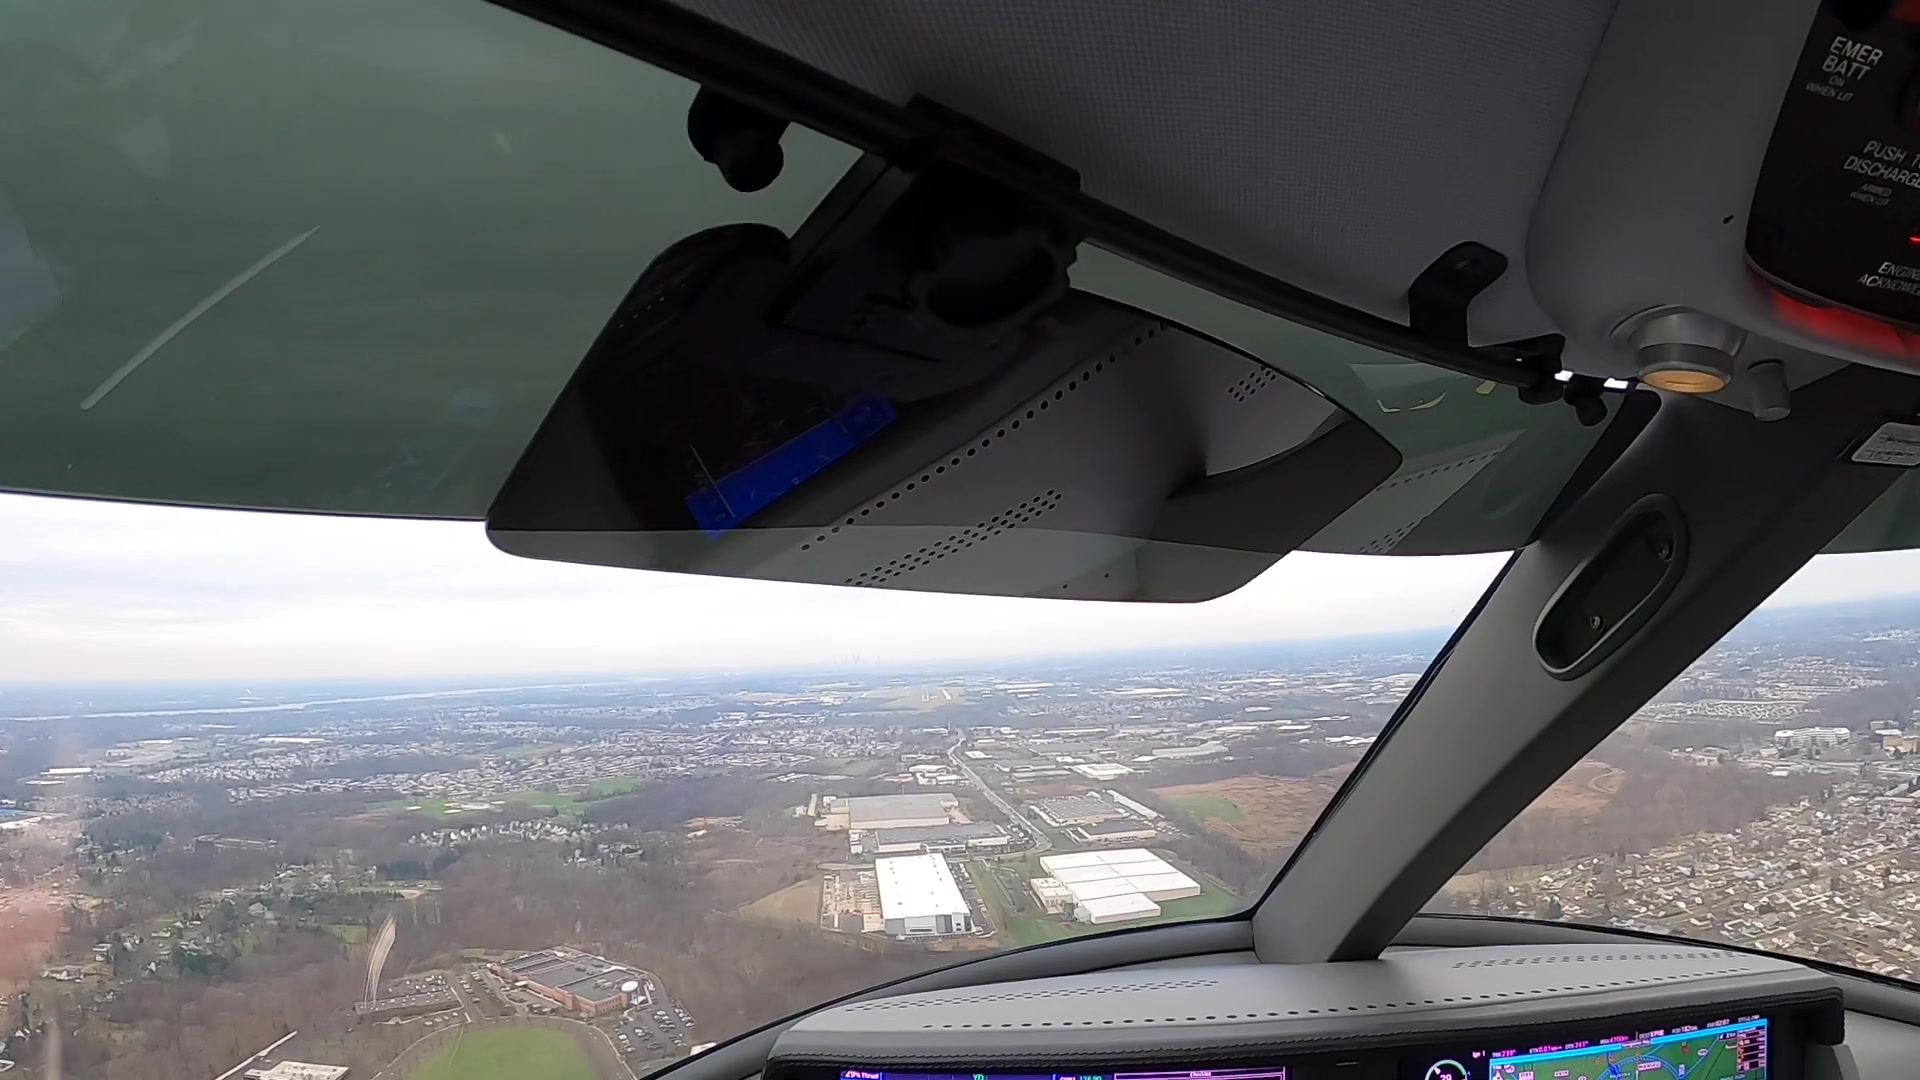runway: (920, 684, 931, 704)
